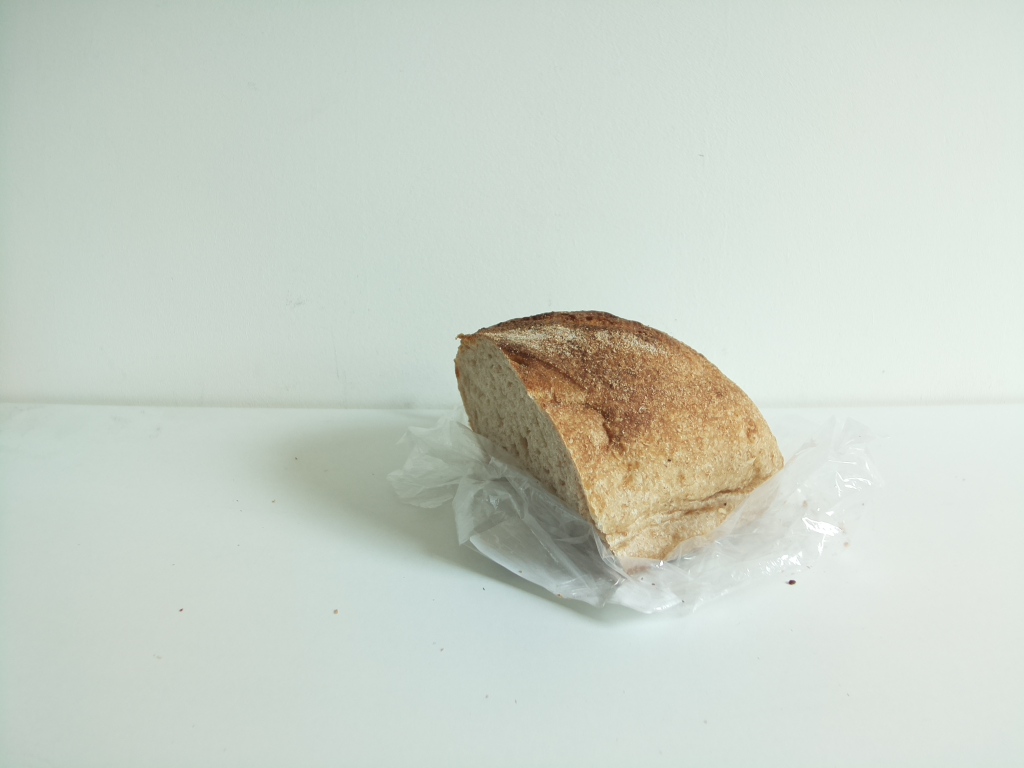bread: (454, 312, 789, 589)
